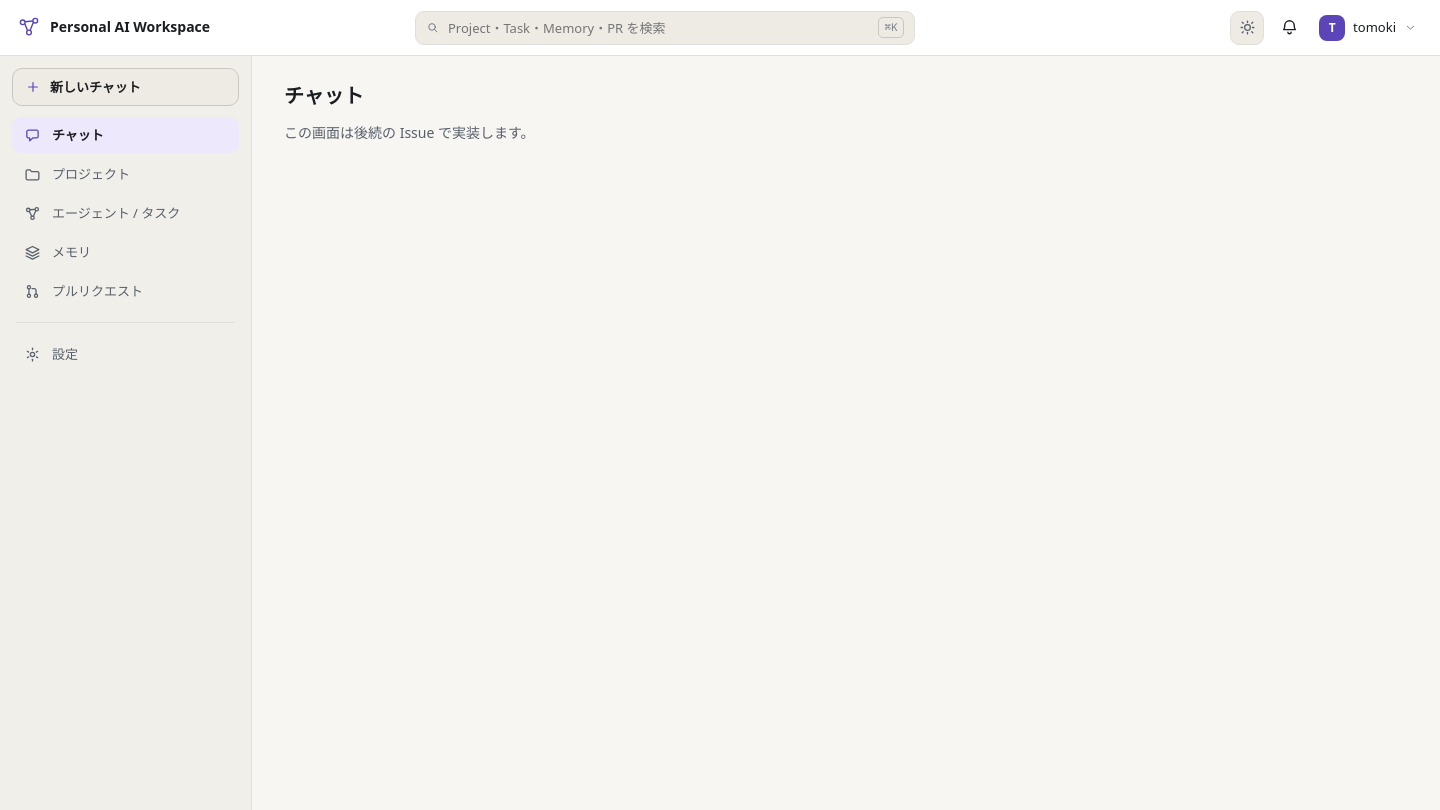
Test case: App › opens 新しいチャット as a later-issue placeholder
Click the link "新しいチャット".
click(126, 87)  # box [12, 68, 239, 106]
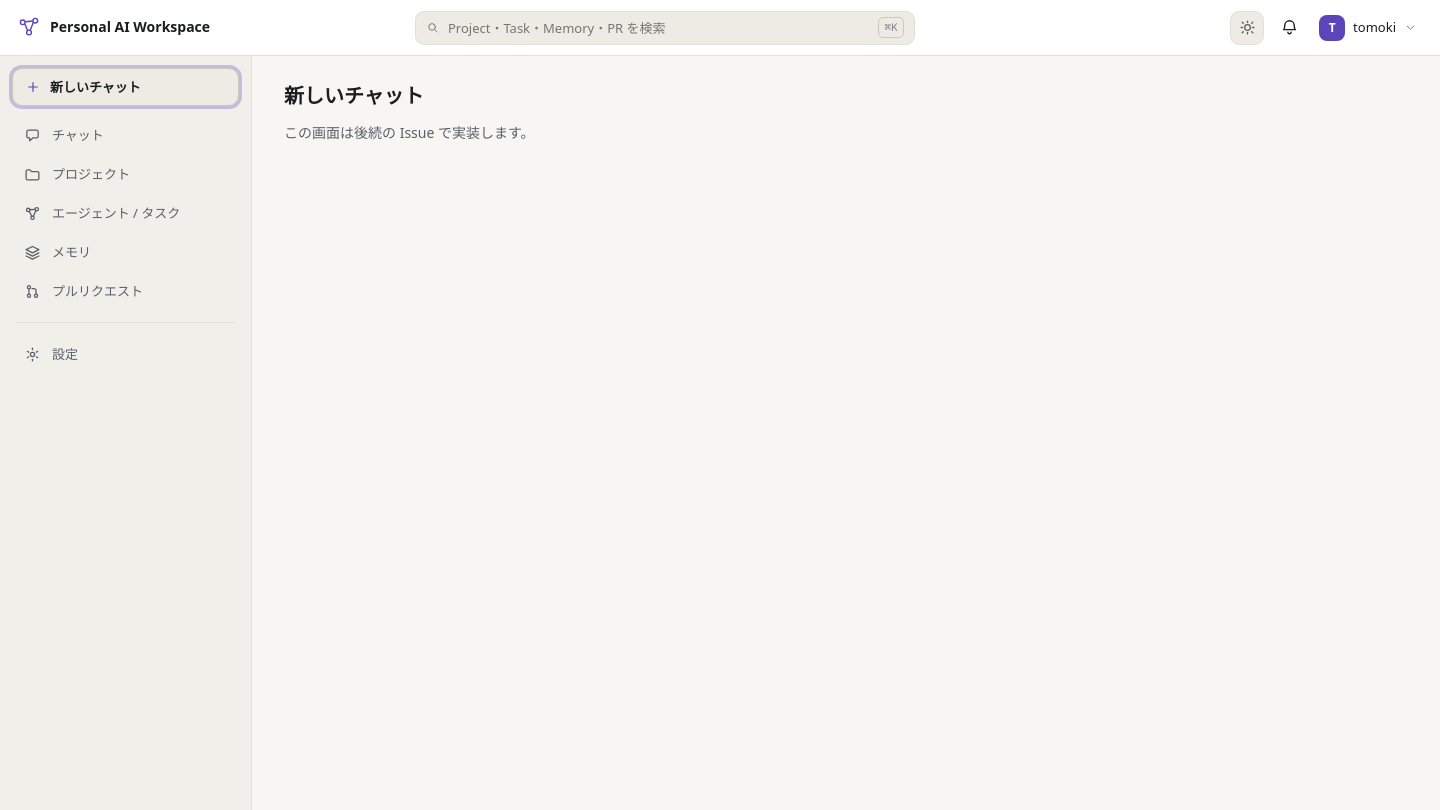
Expected: the text "この画面は後続の Issue で実装します。" is shown, [284, 123, 535, 142]
Expected: the heading "新しいチャット" is shown, [284, 82, 424, 109]
